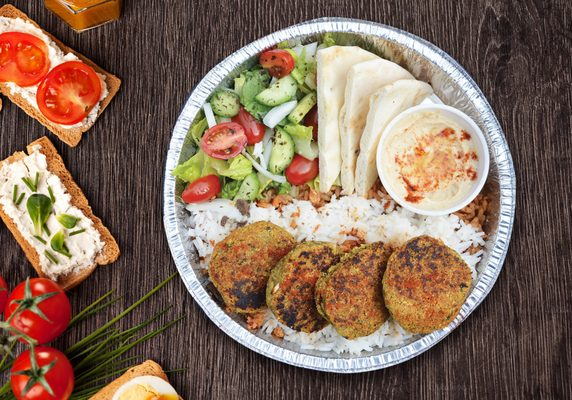soup: (0, 136, 121, 291)
sushi: (376, 105, 489, 216)
